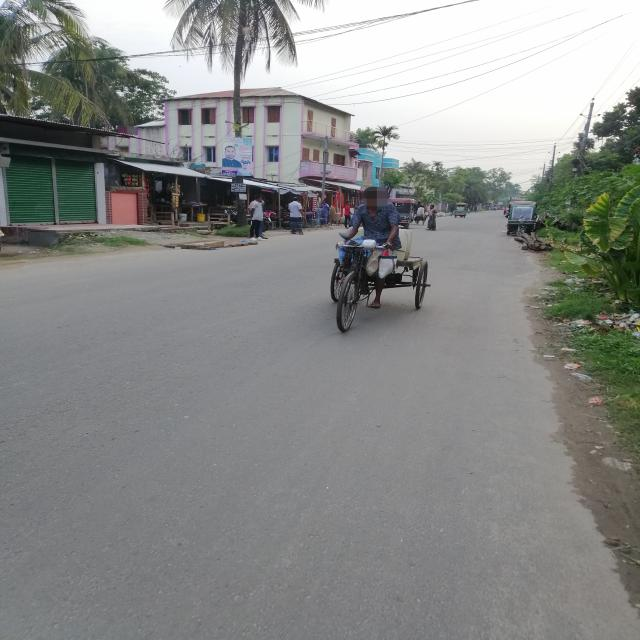Van: (318, 236, 438, 341)
